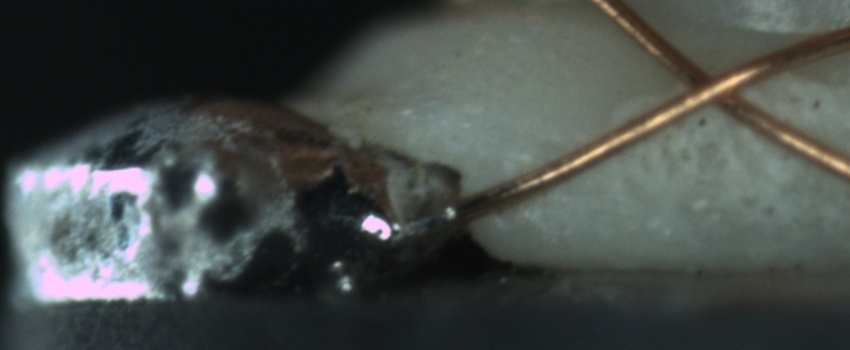CL: (652, 44, 775, 128)
